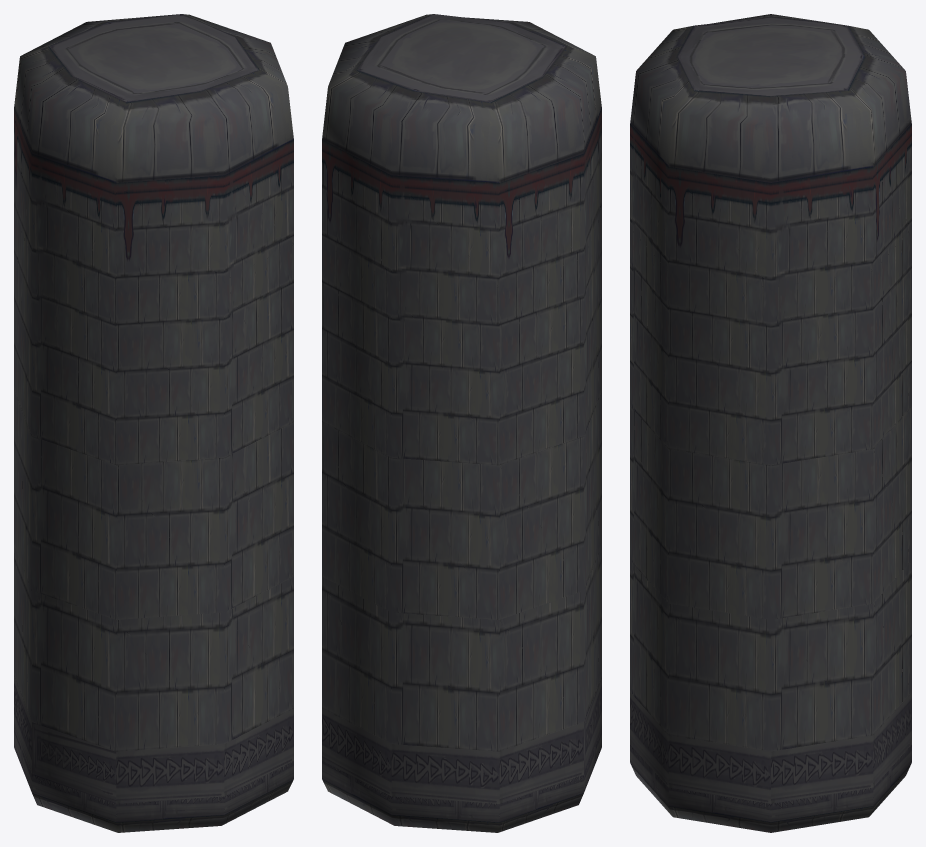
Rendered from Pillar_Round_01.glb.
3 views of the same model, side by side, from view 1: azimuth 30°, elevation 25°; view 2: azimuth 150°, elevation 25°; view 3: azimuth 270°, elevation 25° (orthographic).
Visible parts, largest first — view 1: Plane.023; view 2: Plane.023; view 3: Plane.023.
Part boxes in pixels (bbox=[...]): Plane.023: bbox=[14, 14, 293, 832]; Plane.023: bbox=[322, 14, 601, 832]; Plane.023: bbox=[630, 14, 911, 832].
Size of the model in its own units: 1.91 by 5.5 by 1.91.
1 material, 1 textured.
